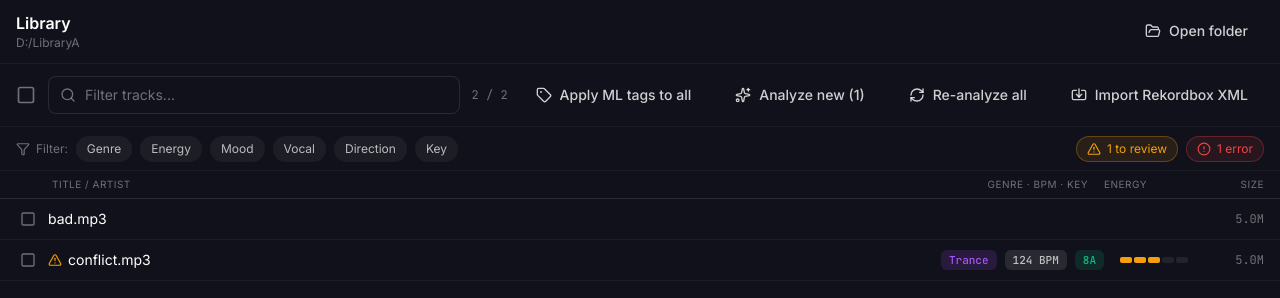
Test case: <LibraryBrowser /> — review (genre conflict) filter › Review and Errors filters are mutually exclusive
// Engage Review.
Click the button "1 to review" at (1127, 148), box left=1076, top=136, right=1178, bottom=162
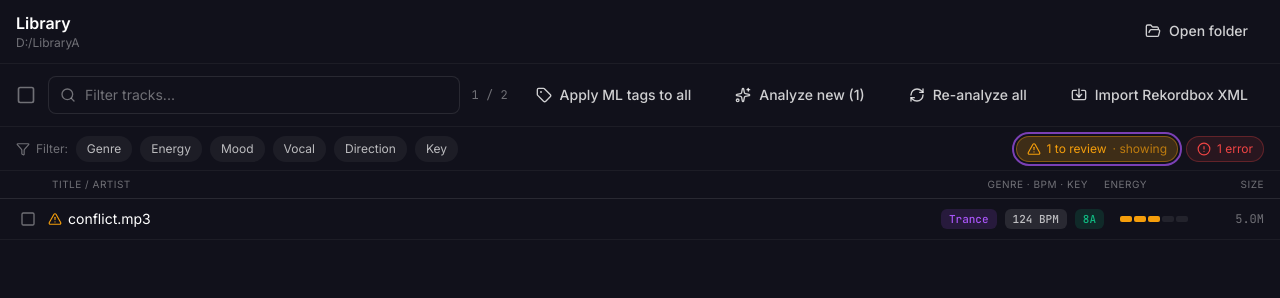
Expected: the button "1 to review · showing" is shown, left=1016, top=136, right=1178, bottom=162
// Engaging Errors must turn Review off (they're different views).
Click the button "1 error" at (1225, 148), box left=1186, top=136, right=1264, bottom=162
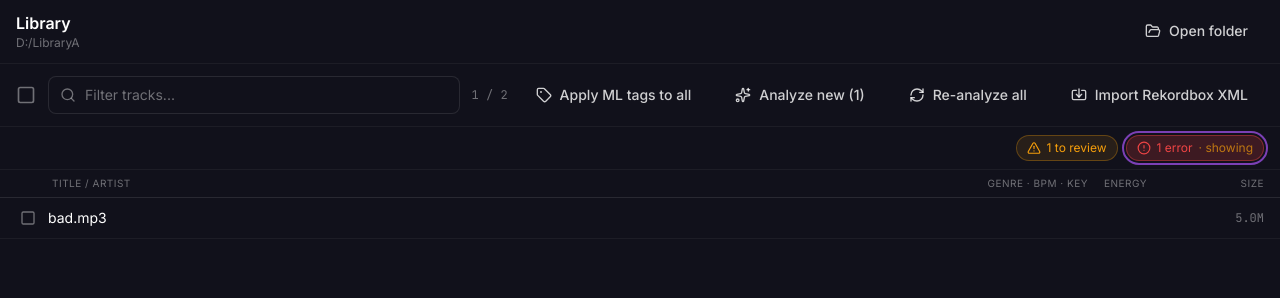
Expected: the button "1 error · showing" is shown, left=1126, top=135, right=1264, bottom=161
